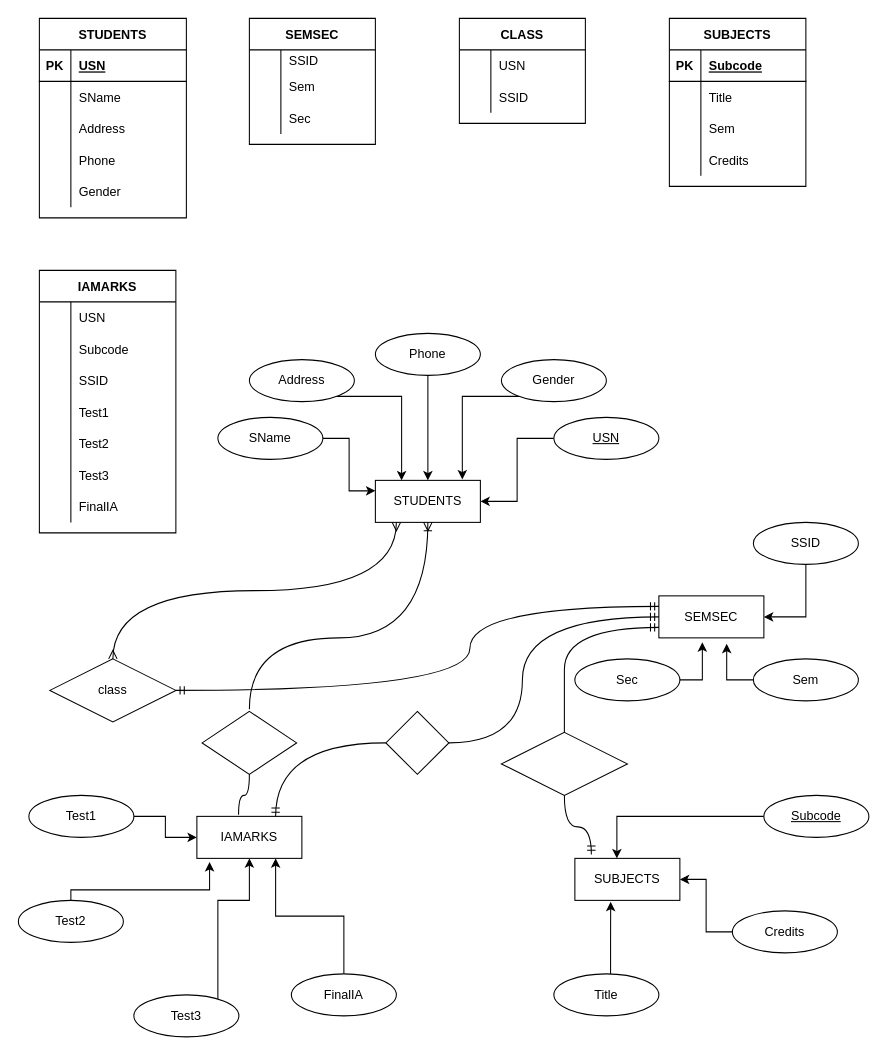
The diagram is 887 pixels wide and 1055 high, and some of its shapes have lost their labels. The shapes that lost their labels are listed below. From the top down, each one's centre as x and y in pixels, then its label:
point (249, 742): scores
point (417, 742): in
point (563, 763): scored_in
